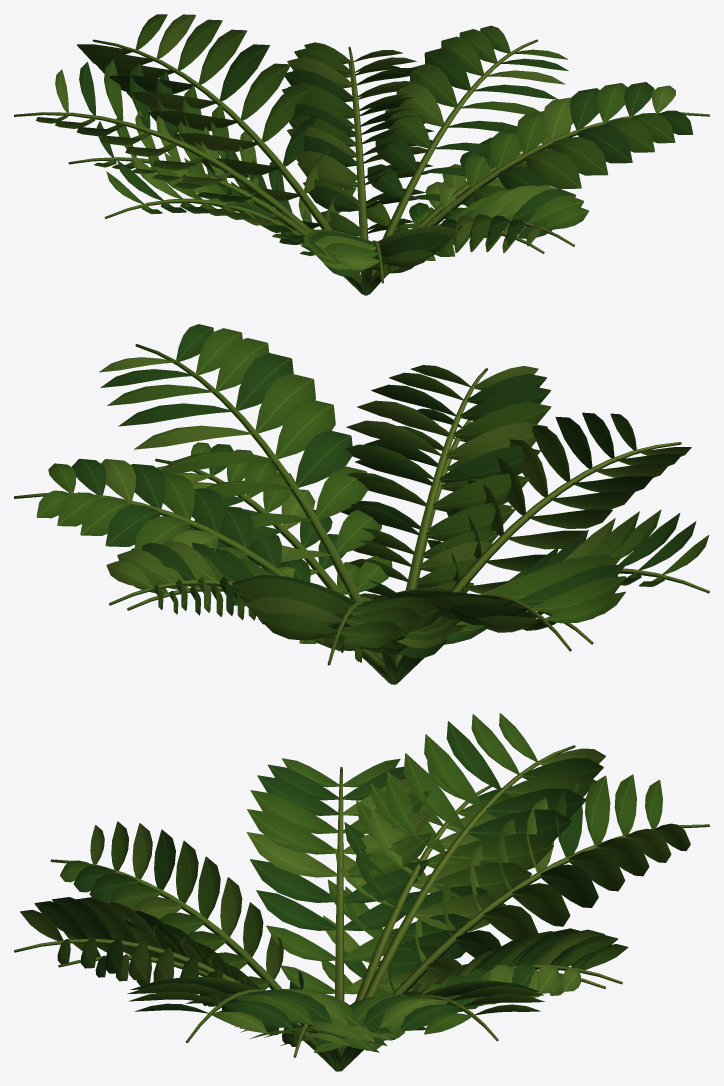
The model's file is Fern_1.glb.
3 renders of one model, top to bottom at view 1: azimuth 30°, elevation 25°; view 2: azimuth 150°, elevation 25°; view 3: azimuth 270°, elevation 25°, orthographic. The views are drawn at different scales.
Visible parts, largest first — view 1: Fern_1_Leaves.004, Fern_1_Stems.004; view 2: Fern_1_Leaves.004, Fern_1_Stems.004; view 3: Fern_1_Leaves.004, Fern_1_Stems.004.
Part boxes in pixels (x1,y1,x2,y2): Fern_1_Leaves.004: (36,14,692,279); Fern_1_Stems.004: (14,39,709,295); Fern_1_Leaves.004: (36,324,709,662); Fern_1_Stems.004: (14,344,709,684); Fern_1_Leaves.004: (20,713,690,1052); Fern_1_Stems.004: (14,745,709,1071).
Size of the model in its own units: 1.33 by 0.4529 by 1.31.
Materials: 1 (1 with a texture image).
